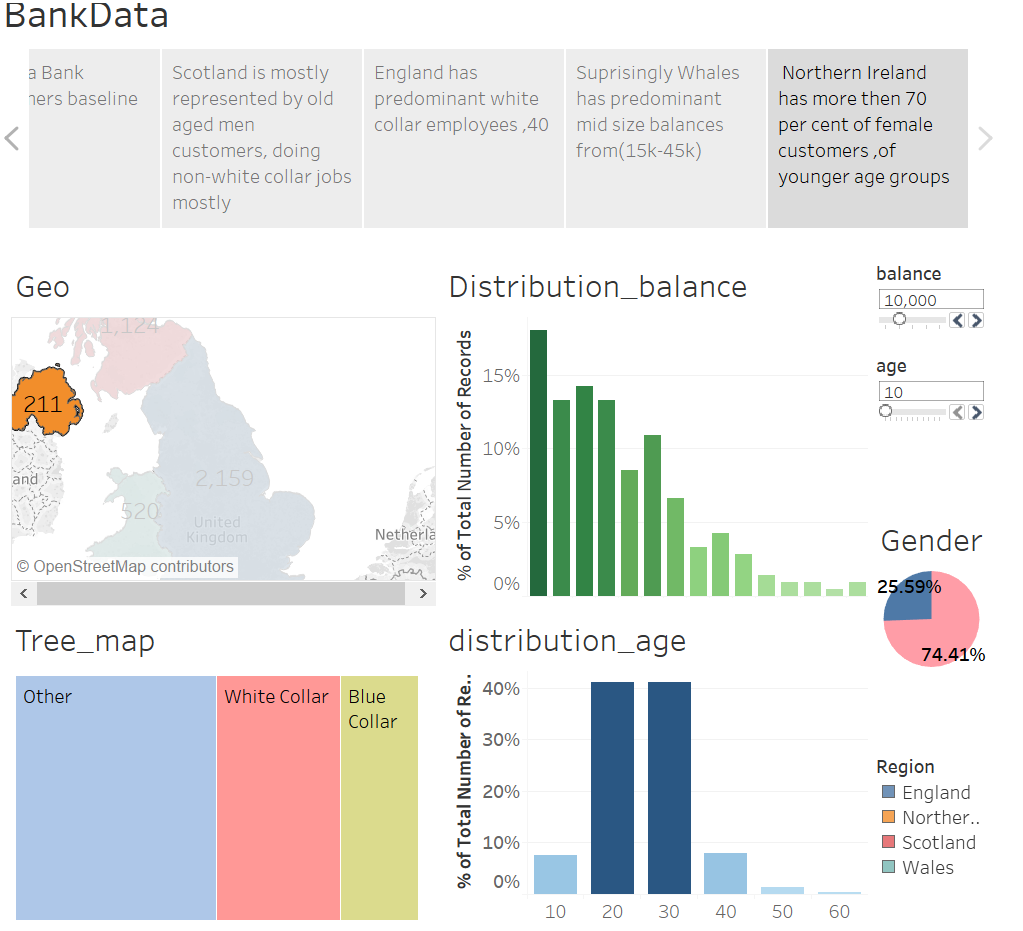

What the dashboard file says about the page in this screenshot:
{"tool":"tableau","page":{"name":"Dashboard 1","canvas":[1000,1000],"units":"permille","ordinal":0},"visuals":[{"type":"worksheet","title":"Geo","mark":"Multipolygon","box":[7.8,10.4,434.1,515.6]},{"type":"worksheet","title":"Distribution_balance","mark":"Automatic","rows":["Number of Records"],"cols":["Balance (bin)"],"box":[441.9,10.4,434.1,515.6]},{"type":"parameter","param":"[Parameters].[Parameter 1]","box":[876,10.4,116.2,119.8]},{"type":"parameter","param":"[Parameters].[Parameter 2]","box":[876,130.2,116.2,210.9]},{"type":"worksheet","title":"Gender","mark":"Pie","box":[876,341.2,116.2,311.2]},{"type":"worksheet","title":"Tree_map","mark":"Automatic","box":[7.8,526,434.6,463.5]},{"type":"worksheet","title":"distribution_age","mark":"Bar","rows":["Number of Records"],"cols":["Age (bin) 2"],"box":[442.4,526,433.6,463.5]},{"type":"legend","title":"Geo","param":"[federated.1nreppc0ht07c41cfi82005qtnct].[none:Region:nk]","box":[876,652.4,116.2,174.5]}]}

Visuals, with their boxes on the dashboard's canvas, which has no fixed pixel size, in thousandths of its width and height (x1, y1, x2, y2). These are canvas units, not pixel positions in the 1023x931 screenshot, which may show the page scaled, cropped or inside an application window:
"Geo" worksheet (Multipolygon marks): {"left": 8, "top": 10, "right": 442, "bottom": 526}
"Distribution_balance" worksheet: {"left": 442, "top": 10, "right": 876, "bottom": 526}
parameter: {"left": 876, "top": 10, "right": 992, "bottom": 130}
parameter: {"left": 876, "top": 130, "right": 992, "bottom": 341}
"Gender" worksheet (Pie marks): {"left": 876, "top": 341, "right": 992, "bottom": 652}
"Tree_map" worksheet: {"left": 8, "top": 526, "right": 442, "bottom": 990}
"distribution_age" worksheet (Bar marks): {"left": 442, "top": 526, "right": 876, "bottom": 990}
"Geo" legend: {"left": 876, "top": 652, "right": 992, "bottom": 827}
